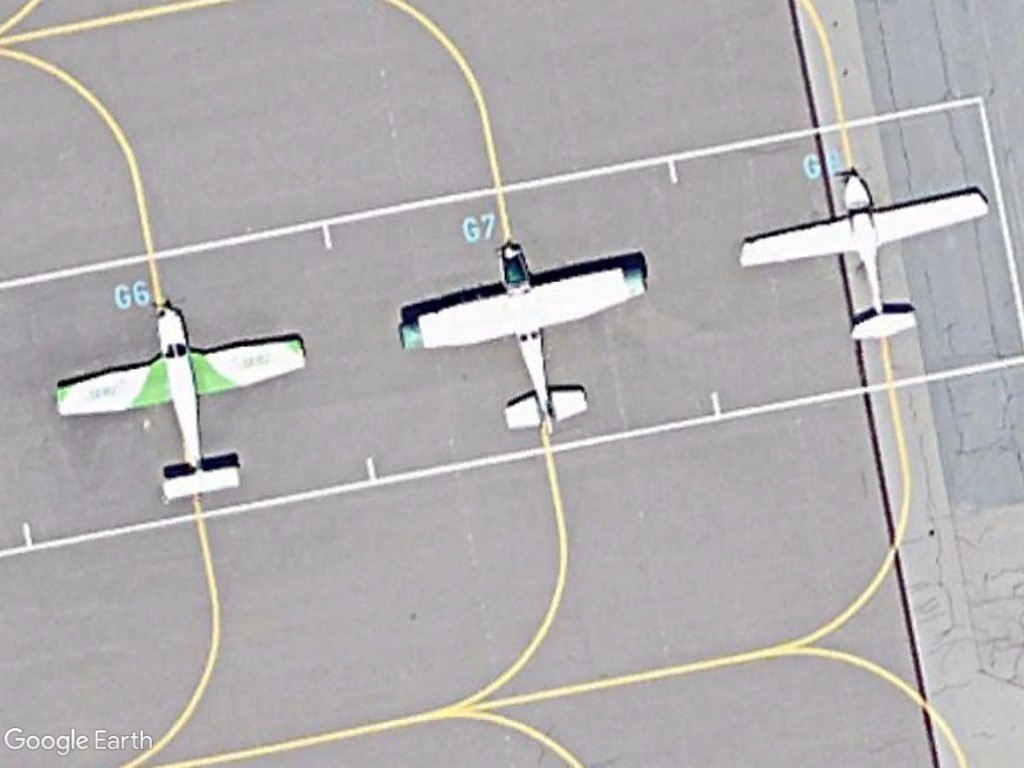trainer: (392, 232, 653, 442), (48, 296, 307, 505), (731, 163, 992, 348)
